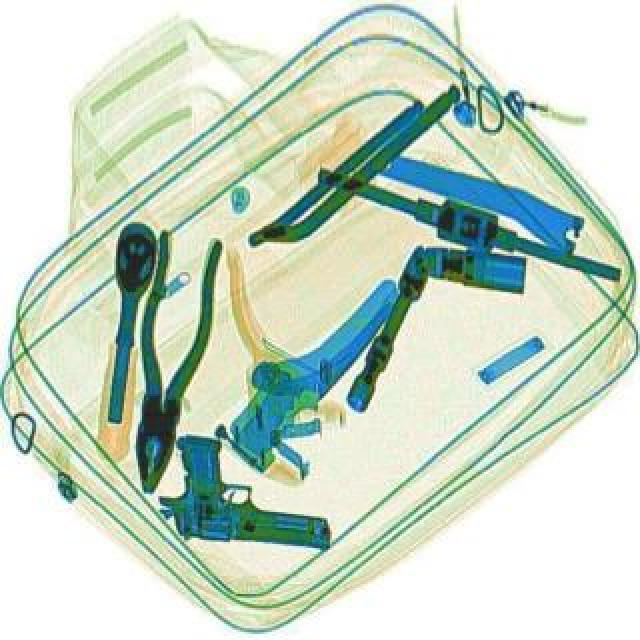gun: (152, 430, 342, 554)
wrench: (112, 228, 224, 494)
